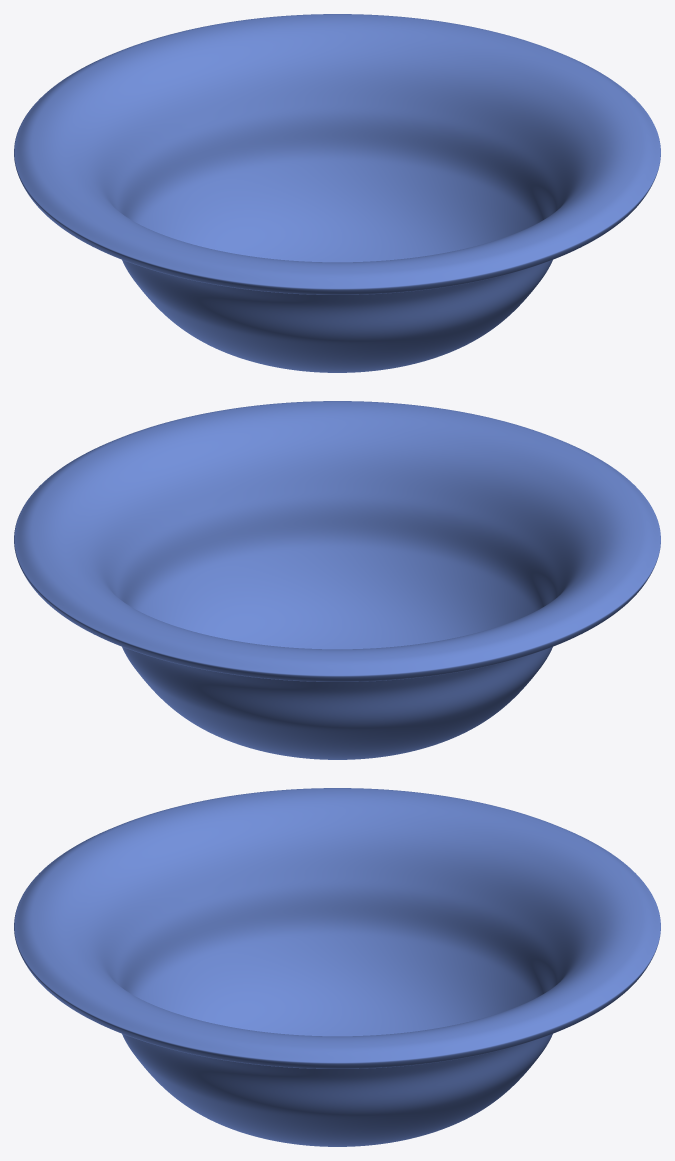
3 renders of one model, top to bottom at view 1: azimuth 30°, elevation 25°; view 2: azimuth 150°, elevation 25°; view 3: azimuth 270°, elevation 25°, orthographic.
Parts seen in each view (by area): view 1: Plate; view 2: Plate; view 3: Plate.
Boxes of the visible parts, x1=… form: Plate: x1=14, y1=14, x2=660, y2=372; Plate: x1=14, y1=401, x2=660, y2=759; Plate: x1=14, y1=788, x2=660, y2=1146.
Size of the model in its own units: 0.3011 by 0.0929 by 0.3011.
